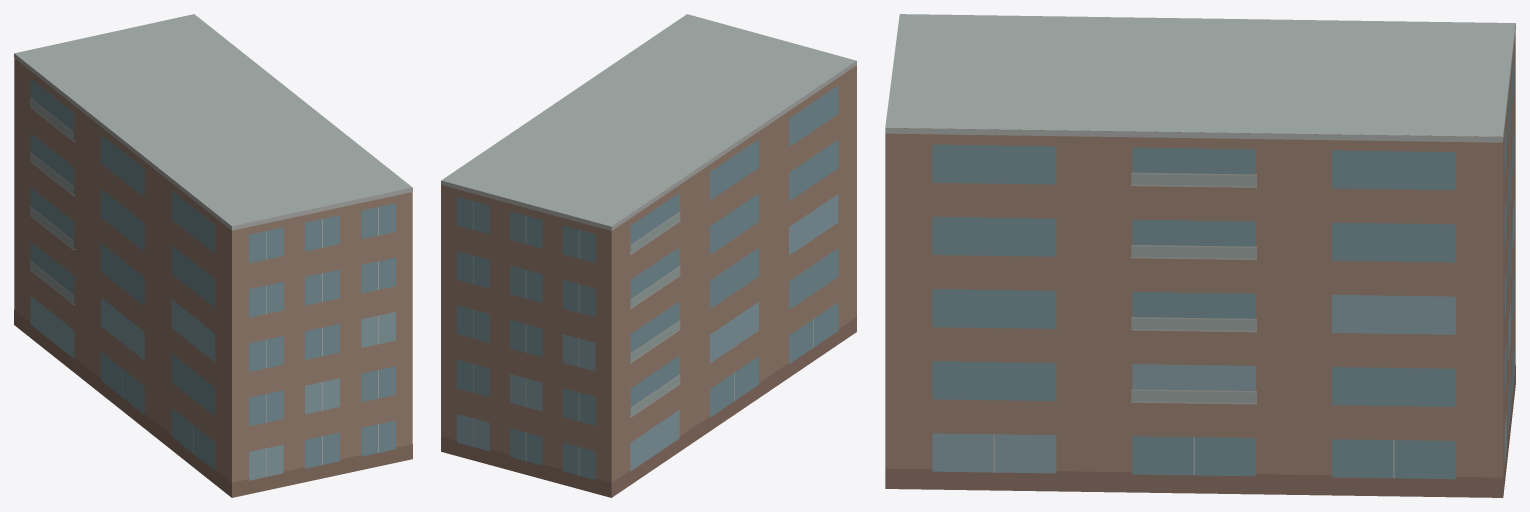
File: survey-upis-32653941.glb
3 views of the same model, side by side, from view 1: azimuth 30°, elevation 25°; view 2: azimuth 150°, elevation 25°; view 3: azimuth 270°, elevation 25° (orthographic). The views are drawn at different scales.
Visible parts, largest first — view 1: survey-upis-32653941.tmp; view 2: survey-upis-32653941.tmp; view 3: survey-upis-32653941.tmp.
Boxes of the visible parts, box(x1,y1,x2,y2) form: survey-upis-32653941.tmp: box(14, 14, 412, 497); survey-upis-32653941.tmp: box(441, 14, 856, 497); survey-upis-32653941.tmp: box(885, 14, 1515, 497).
Bounding box in the file's own units: 10.95 × 15 × 23.75.
